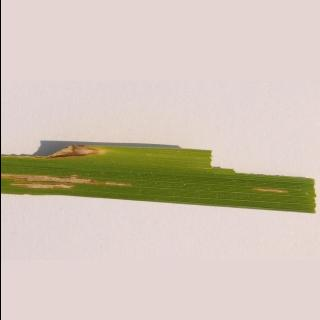Hawar-Daun: (0, 168, 120, 202), (38, 138, 114, 166)
